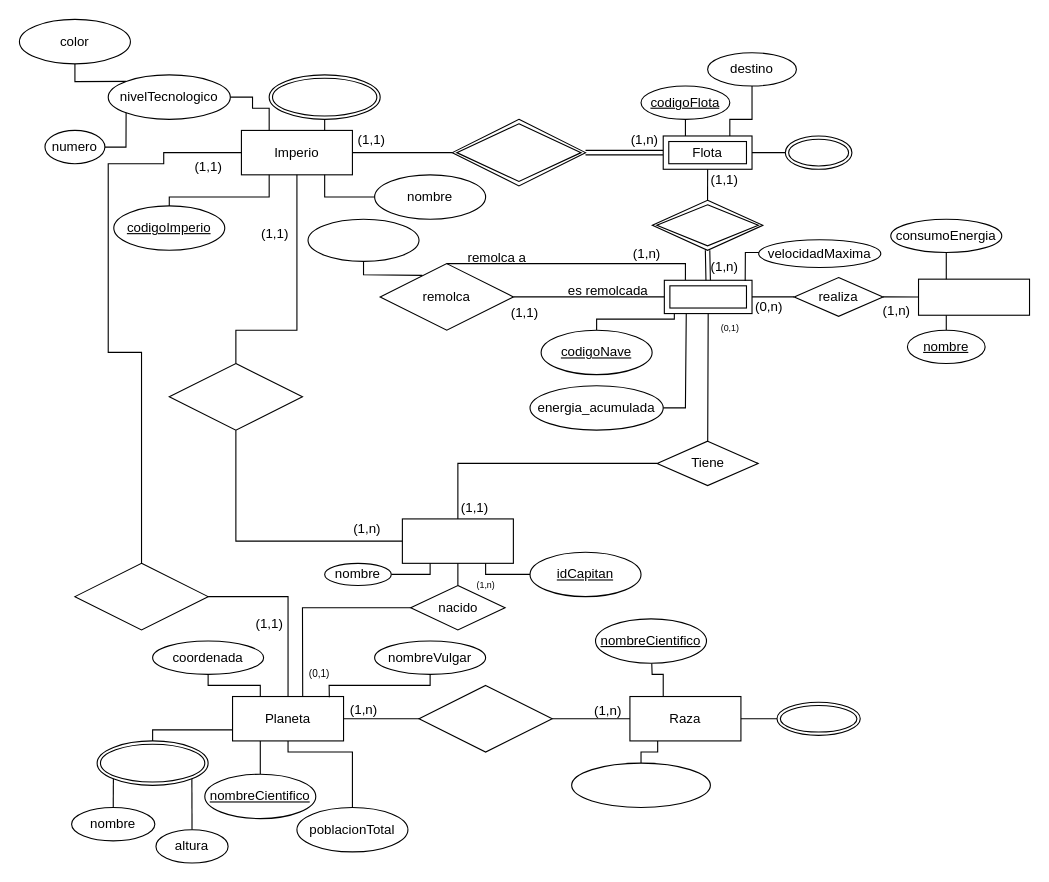
Image size: 1049x882. Some labels were removed from this diagram. Here are the shapes that lost their labels. From the top down, the centre of each, then its label:
(324,96): armamento
(518,152): pertenece
(818,152): mision
(363,239): fechaRemolque
(707,224): navega
(707,296): Nave
(973,296): Maniobra
(235,396): trabaja
(457,540): Capitan
(141,596): ocupa
(485,718): vive
(818,718): habilidad
(152,762): montaña
(640,785): porcentajePoblacion
